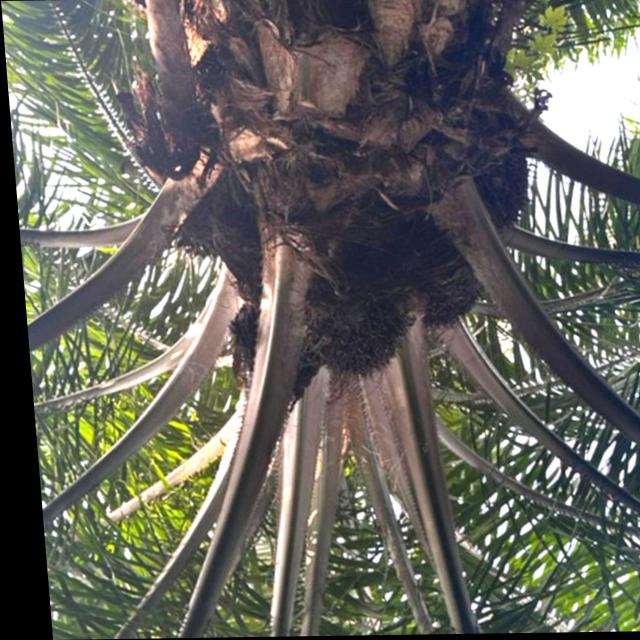unripe: (282, 262, 412, 388), (389, 226, 490, 335)
